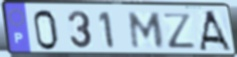0: (31, 8, 60, 51)
1: (97, 11, 117, 50)
3: (67, 10, 93, 50)
A: (198, 10, 234, 53)
M: (128, 11, 166, 51)
Z: (161, 12, 197, 50)
